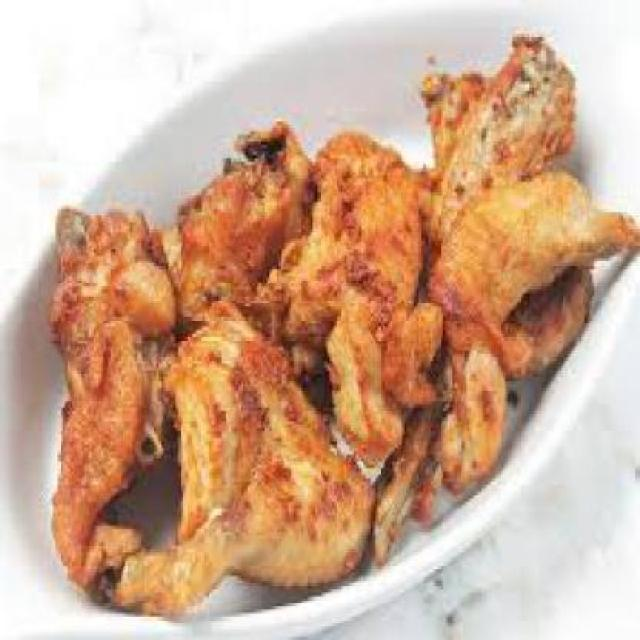Wet Waste: (114, 306, 380, 617), (423, 178, 635, 490), (270, 130, 452, 462), (51, 199, 174, 583), (418, 34, 580, 263), (162, 119, 316, 326)
